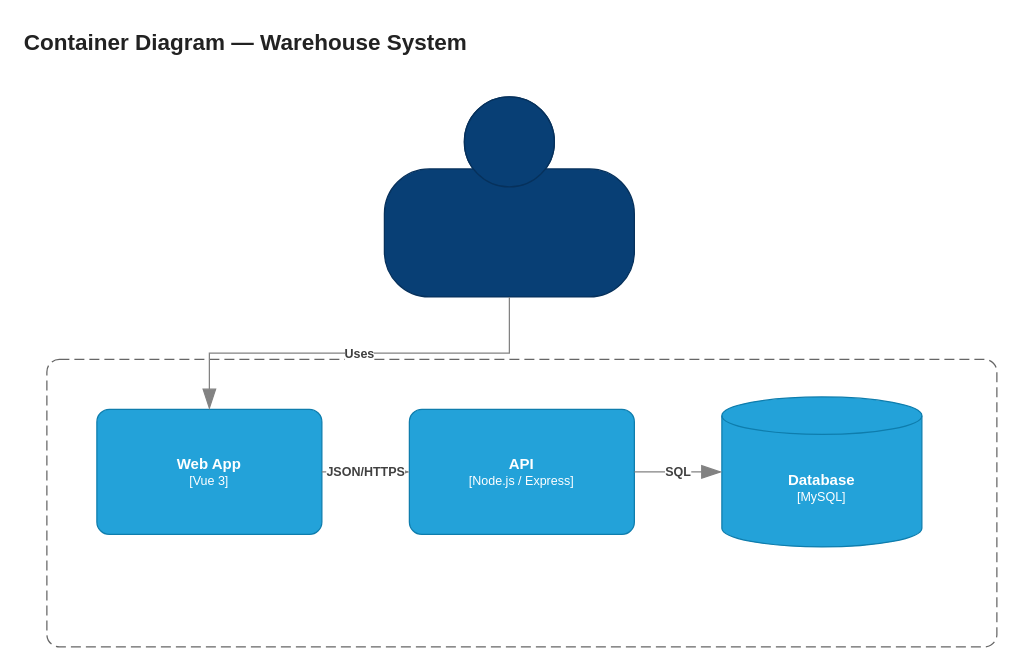
This 1019x669 diagram has some shape labels left out. Each missing label, with the box of its shape:
User [Person] Staff, driver, or customer: (383, 96, 634, 297)
Warehouse System: (46, 358, 997, 647)
